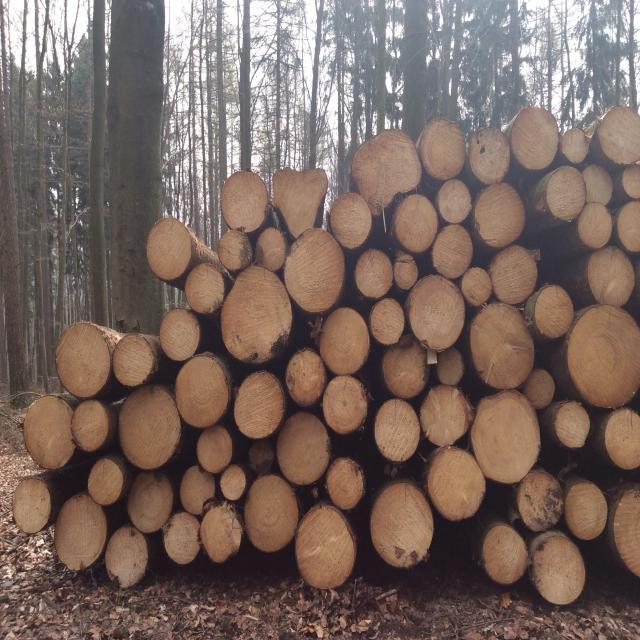wood-log: (564, 304, 638, 408), (223, 267, 295, 362), (471, 392, 541, 484), (367, 481, 433, 568), (468, 307, 534, 392), (120, 384, 182, 470), (283, 230, 345, 315), (294, 506, 355, 591), (354, 129, 424, 200), (424, 449, 486, 522), (244, 478, 301, 555), (405, 275, 464, 349), (56, 324, 113, 400), (274, 412, 332, 486), (177, 352, 234, 427), (19, 394, 74, 471), (53, 493, 107, 570), (532, 533, 586, 605), (318, 307, 372, 376), (272, 170, 328, 236), (231, 372, 284, 440), (504, 109, 558, 172), (418, 384, 472, 446), (474, 182, 526, 246), (417, 119, 468, 180), (128, 470, 176, 534), (371, 398, 419, 462), (379, 335, 426, 398), (221, 173, 271, 232), (488, 245, 538, 304), (516, 468, 562, 532), (585, 247, 634, 307), (481, 525, 529, 586), (146, 216, 193, 278), (322, 376, 370, 436), (562, 479, 608, 539), (396, 193, 442, 252), (106, 527, 149, 588), (200, 501, 243, 562), (613, 486, 640, 581), (284, 348, 328, 406), (113, 333, 160, 387), (330, 194, 375, 249), (599, 105, 640, 164), (471, 125, 511, 183), (432, 224, 474, 278), (532, 283, 574, 337), (546, 165, 587, 220), (13, 476, 53, 532), (159, 307, 201, 360), (605, 406, 640, 469), (185, 266, 230, 314), (162, 510, 201, 564), (326, 459, 366, 510), (354, 250, 394, 300), (70, 400, 108, 452), (179, 466, 216, 515), (552, 401, 590, 448), (369, 298, 406, 346), (578, 202, 615, 249), (88, 457, 125, 504), (198, 426, 234, 474), (438, 178, 474, 222), (257, 225, 291, 268), (520, 368, 556, 408), (218, 227, 250, 269), (461, 268, 493, 308), (617, 199, 640, 252), (582, 165, 613, 204), (560, 127, 591, 163), (438, 347, 467, 385), (219, 465, 247, 501), (248, 440, 276, 474), (396, 256, 420, 290), (622, 164, 640, 198)
